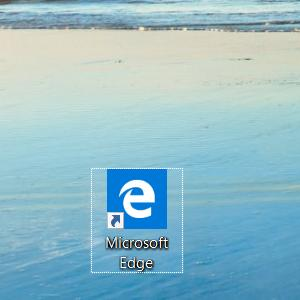edge: (107, 169, 168, 229)
